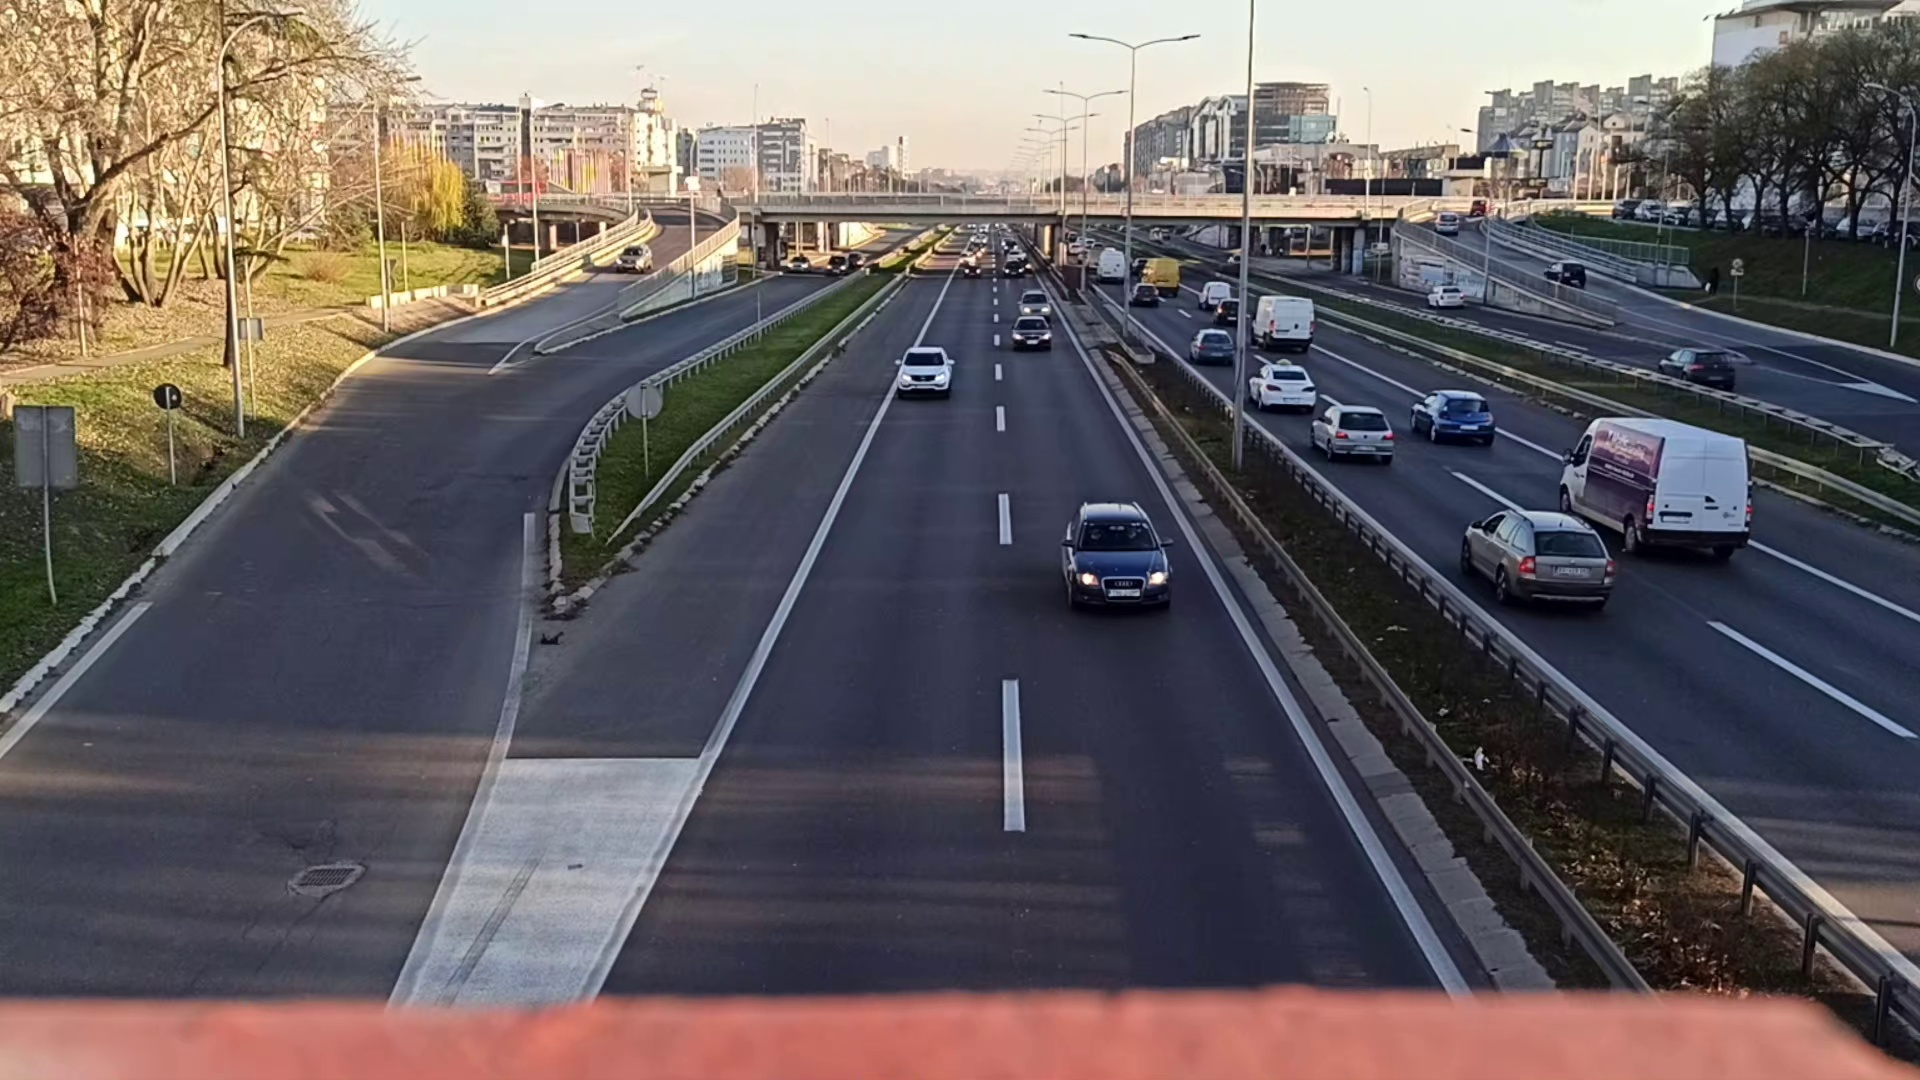car: (1461, 508, 1610, 612), (1060, 498, 1174, 611), (1308, 404, 1394, 468), (1410, 389, 1495, 444), (1250, 364, 1313, 410), (895, 345, 952, 394), (1010, 316, 1050, 349)
van: (1559, 417, 1745, 564), (1250, 291, 1317, 351)
